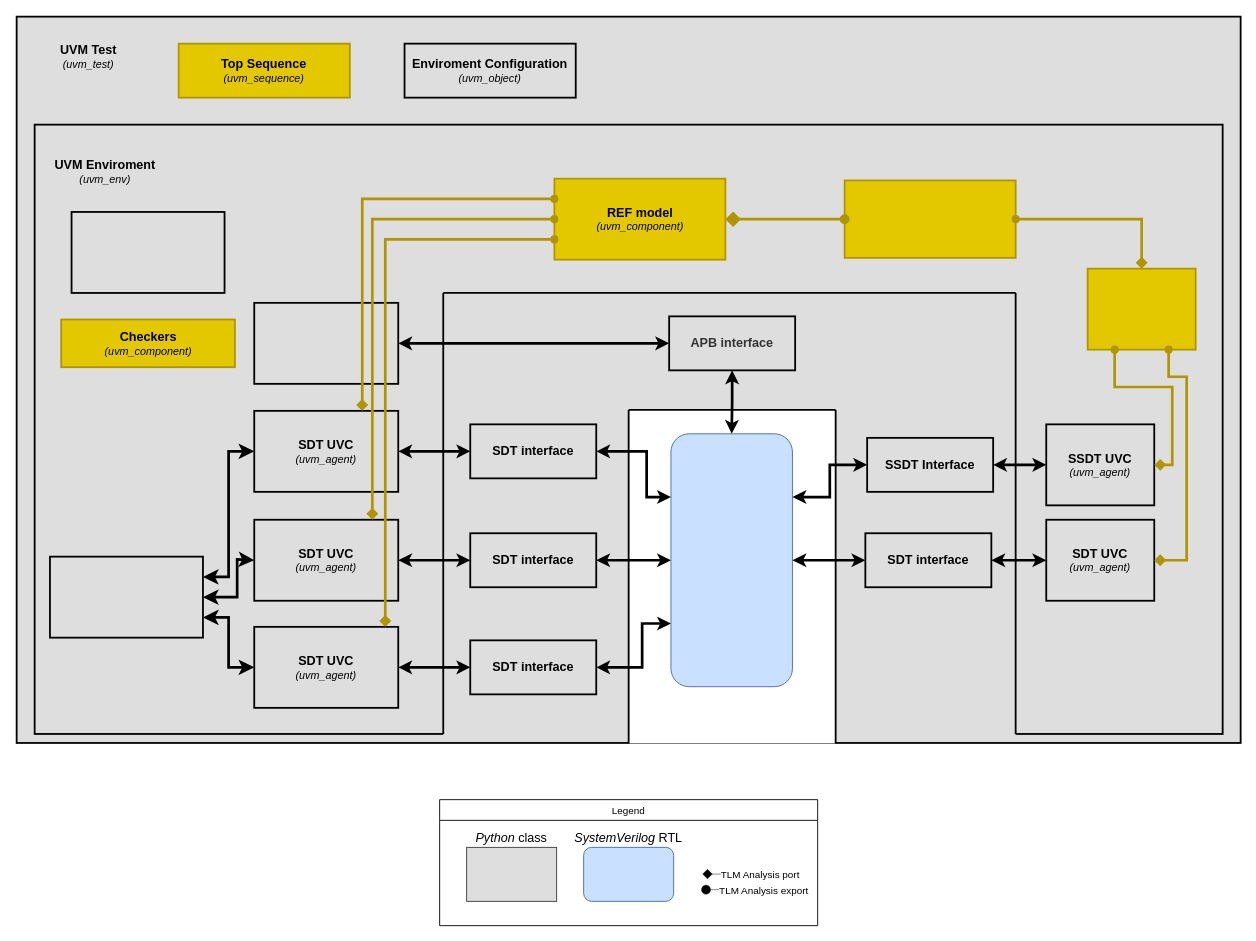
Image size: 1256x941. Some labels were removed from this diagram. The shapes that lost their labels are listed below. From the top down, each one's centre as x and y in pixels, then its label:
At point (929, 218): "Scoreboard (uvm_component)".
At point (147, 252): "Register Model (uvm_object)".
At point (1141, 308): "CRC-MIF Connector (uvm_component)".
At point (326, 343): "APB UVC (uvm_agent)".
At point (731, 560): "DUT Memory Arbiter".
At point (126, 596): "Virtual Sequencer (uvm_sequencer)".
At point (511, 873): "<Abstract Name> [(<base class>)]".
At point (628, 873): "<Abstract Name>".
